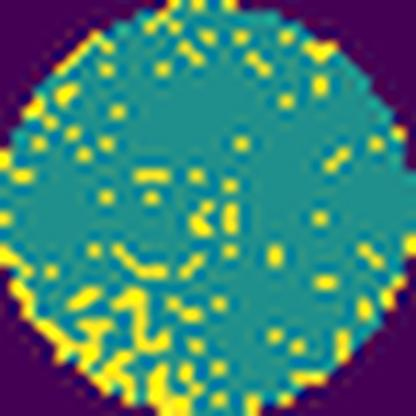Edge-Loc: (0, 243, 104, 375), (93, 348, 145, 402), (148, 363, 192, 415)
